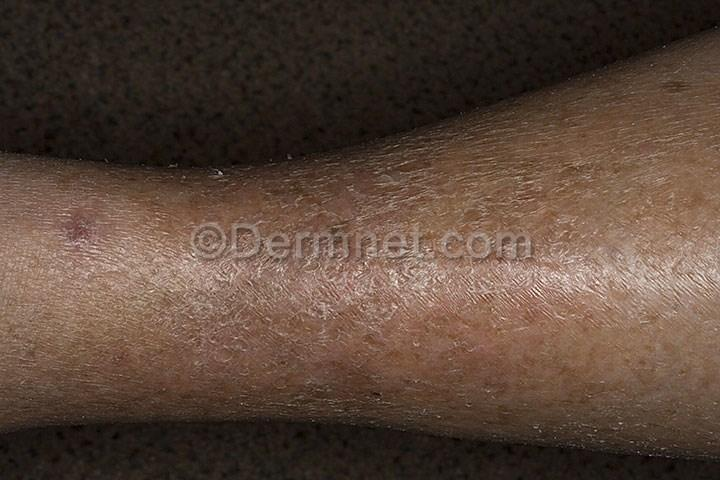Eczema: (446, 177, 524, 260), (641, 59, 713, 139), (446, 264, 516, 343), (508, 290, 590, 357), (27, 179, 103, 250), (456, 339, 520, 416), (400, 335, 465, 410), (372, 272, 448, 334), (568, 90, 650, 147), (241, 301, 316, 363), (164, 269, 236, 333), (163, 196, 224, 271), (600, 201, 668, 268), (530, 156, 588, 231), (312, 386, 407, 430), (375, 208, 439, 273), (614, 267, 666, 347), (661, 139, 720, 208), (306, 217, 373, 277), (323, 342, 402, 392), (231, 163, 308, 214), (155, 336, 239, 382), (375, 138, 434, 203), (311, 279, 380, 334), (587, 138, 647, 201), (244, 362, 319, 412), (232, 253, 305, 304), (313, 161, 383, 213), (539, 237, 598, 296), (501, 101, 567, 152), (234, 212, 303, 257), (434, 120, 494, 171), (668, 263, 719, 321), (165, 168, 233, 207), (671, 207, 720, 261)
